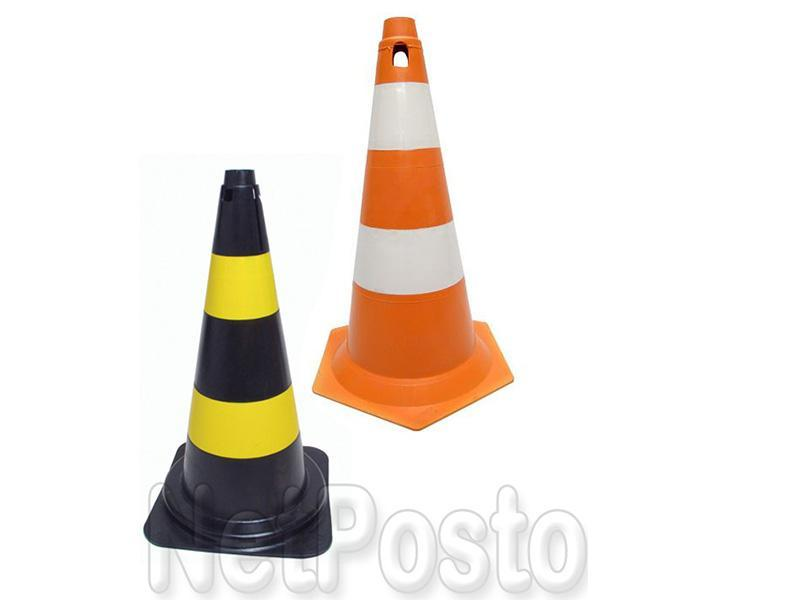traffic cone: (311, 15, 516, 432), (143, 165, 333, 558)
traffic light: (142, 166, 335, 560)
